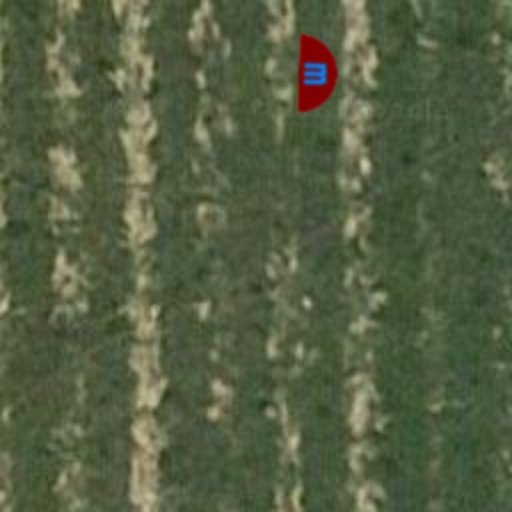semicircle: (276, 32, 360, 116)
